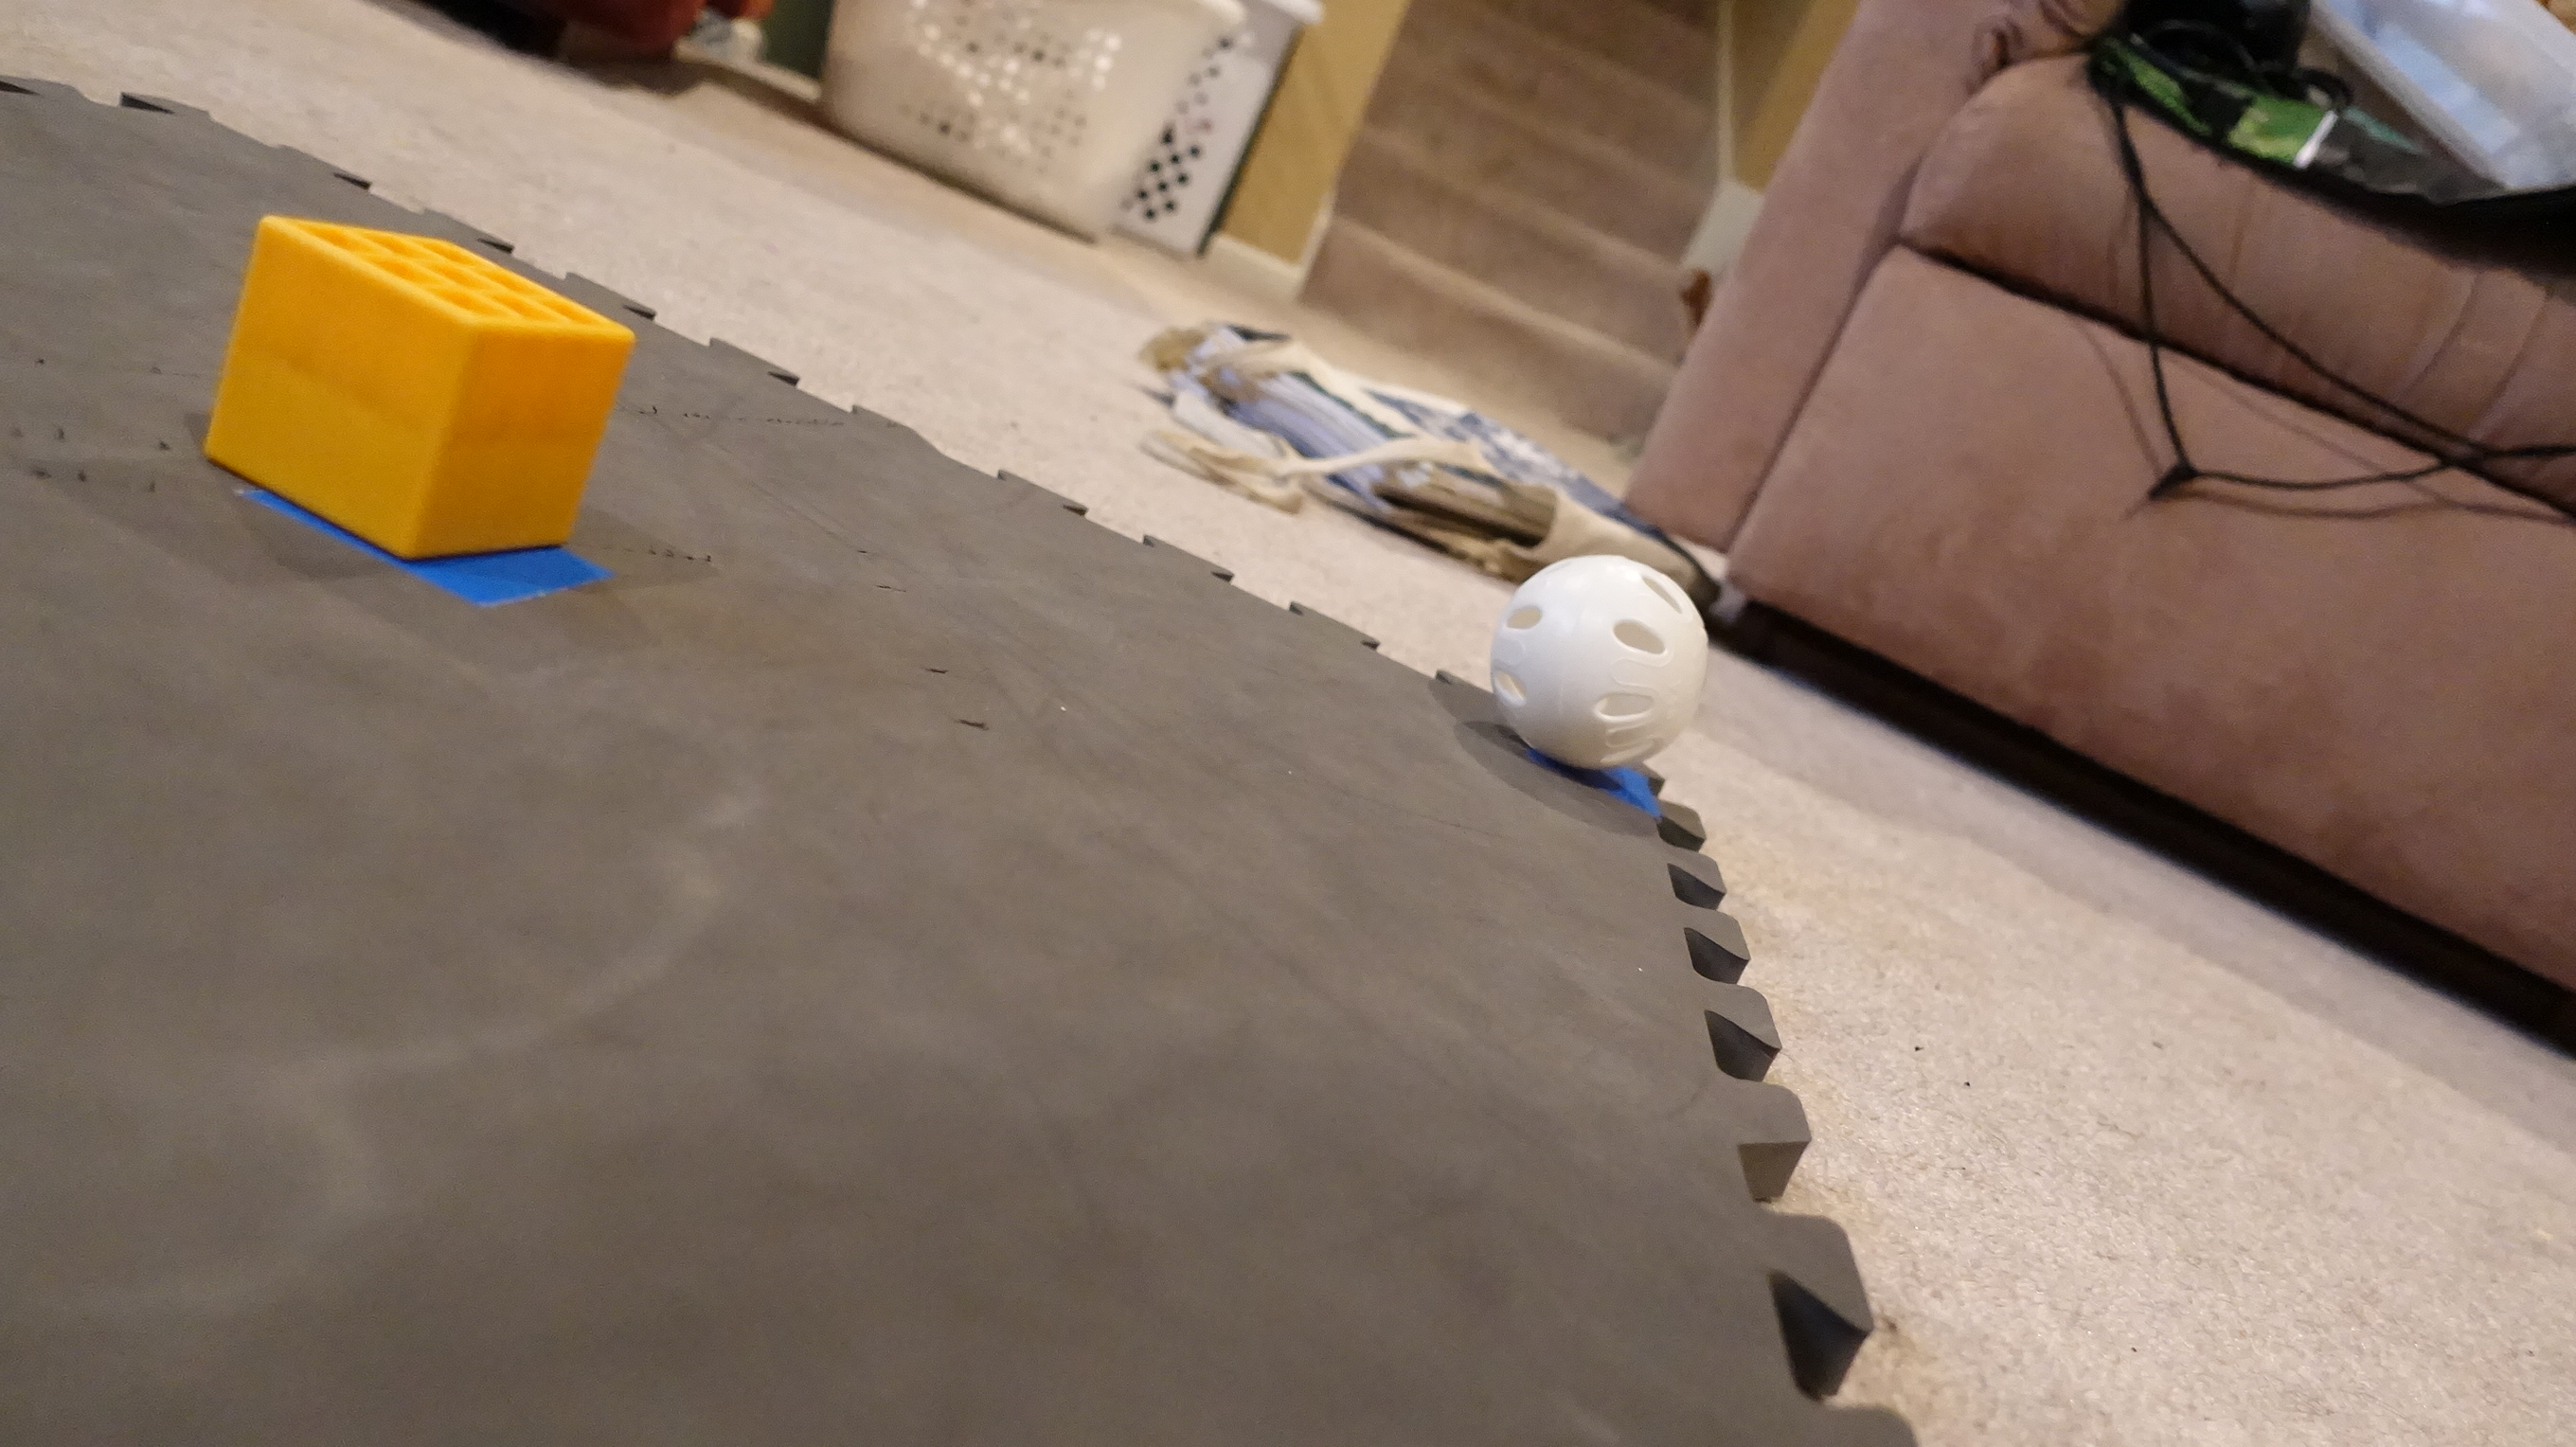gold: (198, 205, 637, 564)
